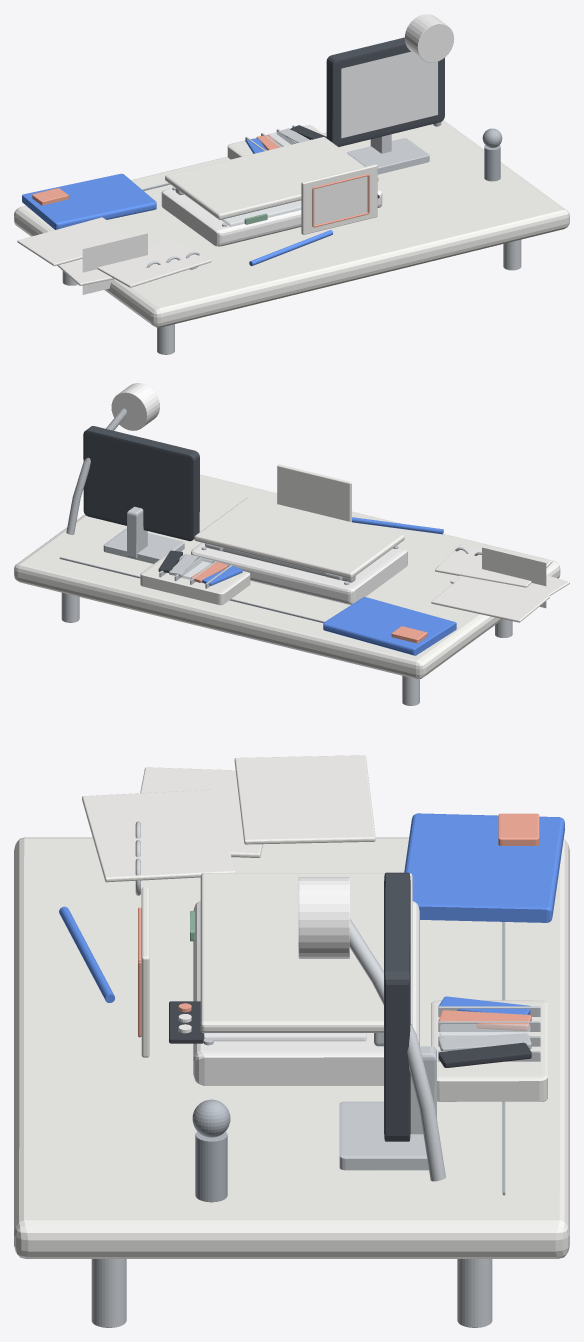
The model's file is observe.glb.
3 views of the same model, one above another, from view 1: azimuth 30°, elevation 25°; view 2: azimuth 150°, elevation 25°; view 3: azimuth 270°, elevation 25° (orthographic). The views are drawn at different scales.
Parts seen in each view (by area): view 1: OBS_research_table, OBS_scanner_lid, SCREEN_observe_inspection, GLASS_observe_inspection, OBS_folder, OBS_scanner_body, OBS_monitor_frame, OBS_paper_2, OBS_paper_1, PRINT_observe_output, OBS_lamp_shade, PRINT_observe_persona (+10 smaller); view 2: OBS_research_table, OBS_monitor_frame, OBS_scanner_lid, OBS_scanner_body, OBS_folder, OBS_paper_2, OBS_output_card, OBS_material_tray, OBS_paper_1, OBS_lamp_shade, SUBSTRATE_PRINT_observe_persona, OBS_monitor_foot (+9 smaller); view 3: OBS_research_table, OBS_scanner_lid, OBS_folder, OBS_scanner_body, OBS_paper_2, OBS_paper_1, OBS_monitor_frame, OBS_material_tray, OBS_monitor_foot, OBS_lamp_shade, OBS_paper_0, OBS_lamp_arm (+16 smaller).
Boxes of the visible parts, bbox=[...] form: OBS_research_table: bbox=[14, 120, 569, 327]; OBS_scanner_lid: bbox=[165, 137, 378, 219]; SCREEN_observe_inspection: bbox=[341, 51, 437, 138]; GLASS_observe_inspection: bbox=[342, 52, 437, 137]; OBS_folder: bbox=[22, 173, 156, 229]; OBS_scanner_body: bbox=[161, 188, 382, 246]; OBS_monitor_frame: bbox=[326, 37, 444, 146]; OBS_paper_2: bbox=[17, 217, 132, 266]; OBS_paper_1: bbox=[97, 237, 211, 287]; PRINT_observe_output: bbox=[310, 174, 371, 226]; OBS_lamp_shade: bbox=[404, 14, 453, 62]; PRINT_observe_persona: bbox=[82, 233, 147, 294]; OBS_research_table: bbox=[14, 474, 560, 679]; OBS_monitor_frame: bbox=[83, 426, 199, 541]; OBS_scanner_lid: bbox=[194, 497, 404, 578]; OBS_scanner_body: bbox=[191, 542, 407, 604]; OBS_folder: bbox=[323, 597, 456, 655]; OBS_paper_2: bbox=[431, 577, 549, 622]; OBS_output_card: bbox=[277, 464, 351, 522]; OBS_material_tray: bbox=[140, 554, 250, 605]; OBS_paper_1: bbox=[435, 544, 552, 587]; OBS_lamp_shade: bbox=[111, 383, 159, 430]; SUBSTRATE_PRINT_observe_persona: bbox=[482, 547, 546, 608]; OBS_monitor_foot: bbox=[103, 528, 184, 563]; OBS_research_table: bbox=[14, 837, 569, 1258]; OBS_scanner_lid: bbox=[200, 873, 412, 1032]; OBS_folder: bbox=[404, 813, 564, 922]; OBS_scanner_body: bbox=[193, 901, 419, 1085]; OBS_paper_2: bbox=[234, 755, 375, 844]; OBS_paper_1: bbox=[82, 789, 235, 882]; OBS_monitor_frame: bbox=[384, 872, 410, 1141]; OBS_material_tray: bbox=[431, 1000, 547, 1101]; OBS_monitor_foot: bbox=[339, 1101, 428, 1170]; OBS_lamp_shade: bbox=[298, 877, 349, 958]; OBS_paper_0: bbox=[140, 767, 262, 857]; OBS_lamp_arm: bbox=[349, 919, 445, 1181].
Size of the model in its own units: 7.12 by 3.12 by 3.8.
